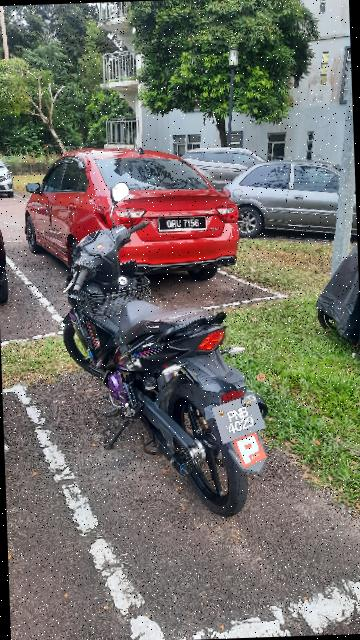License_Plate: (209, 389, 273, 447)
car: (25, 125, 246, 293), (232, 150, 359, 248)
motorcycle: (52, 176, 296, 528)
